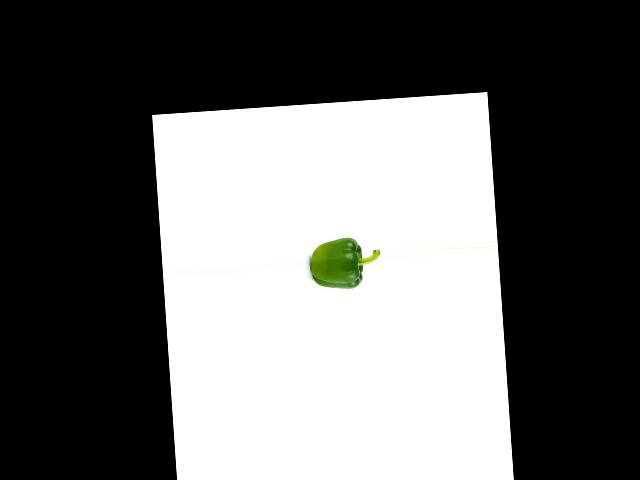bell_pepper: (308, 234, 381, 299)
